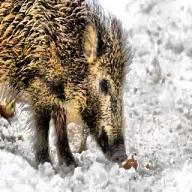boar: (0, 0, 131, 172)
